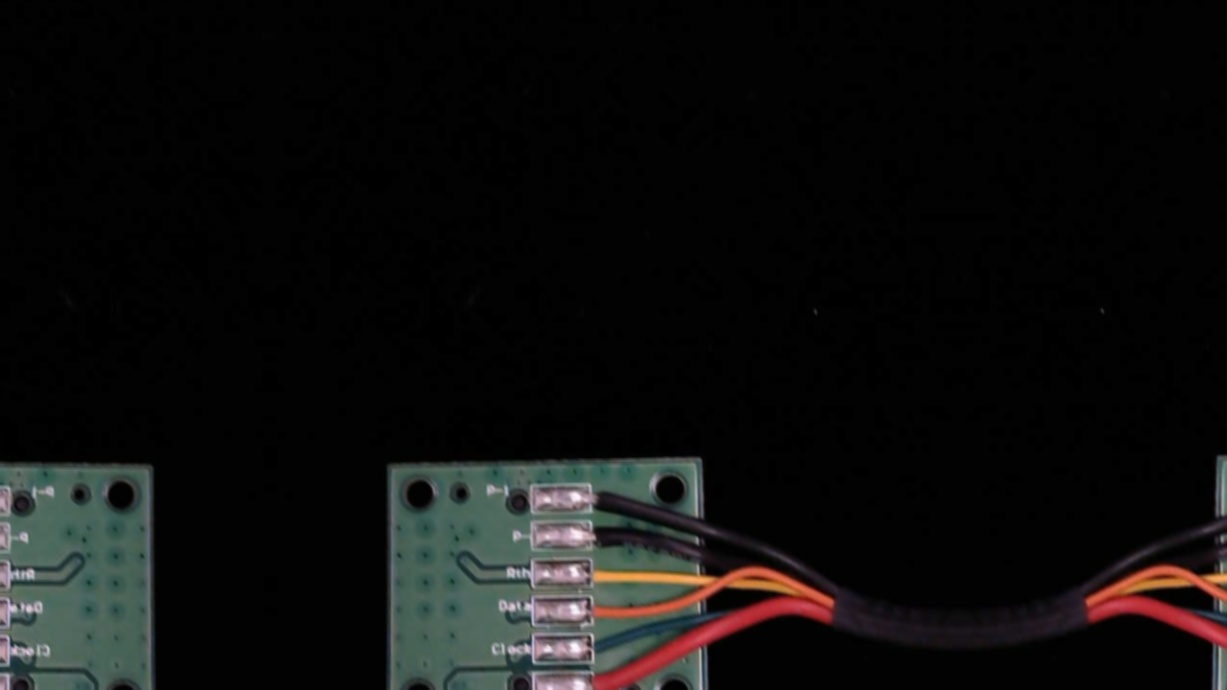Black: (573, 519, 643, 552)
Black1: (571, 480, 635, 512)
Green: (569, 631, 628, 664)
Orange: (570, 595, 639, 626)
Red: (572, 668, 640, 690)
Yellow: (572, 554, 643, 587)
